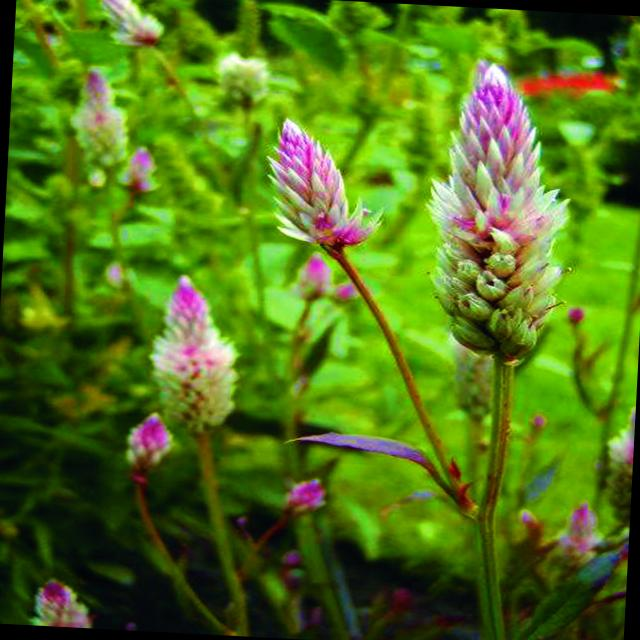Celosia-Argentea: (420, 61, 580, 372), (261, 115, 391, 252), (143, 270, 246, 437), (23, 576, 100, 628)
